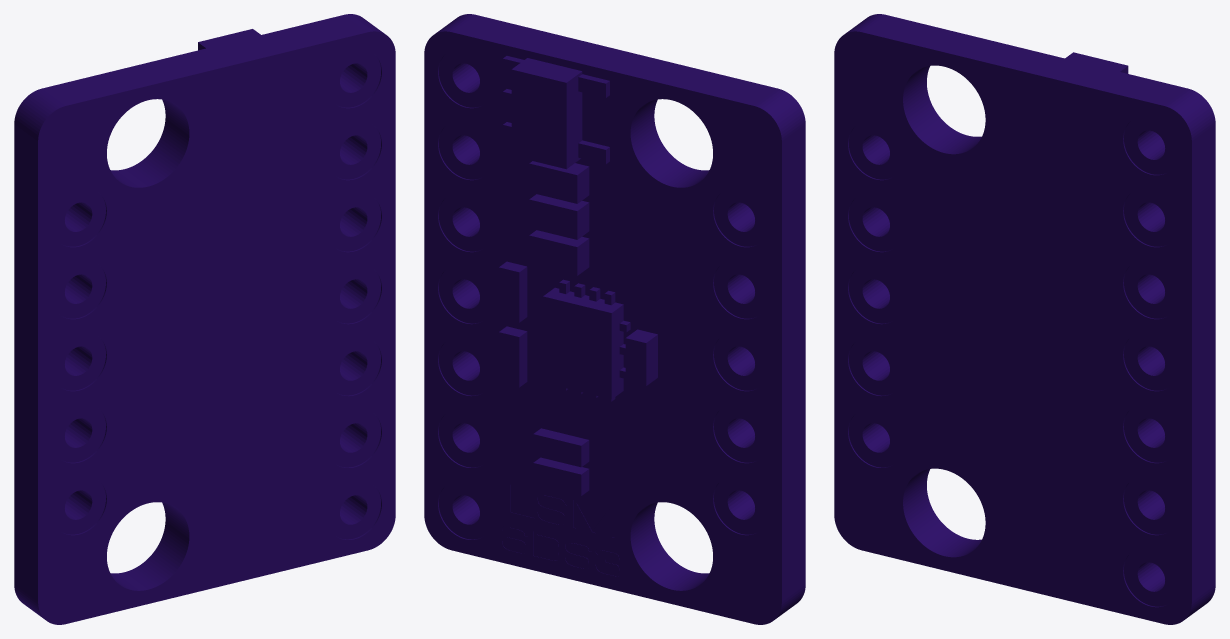
Rendered from IMU.dae.
3 renders of one model, left to right at view 1: azimuth 30°, elevation 25°; view 2: azimuth 150°, elevation 25°; view 3: azimuth 330°, elevation 25°, orthographic.
Parts seen in each view (by area): view 1: node0; view 2: node0; view 3: node0.
Part boxes in pixels (<box>): node0: <box>14,14,395,624</box>; node0: <box>424,14,805,624</box>; node0: <box>834,14,1215,624</box>.
Bounding box in the file's own units: 0.013 × 0.0025 × 0.018.
